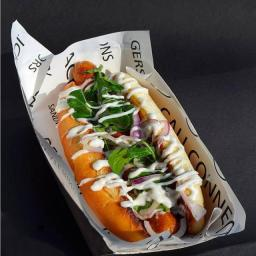hotdog: (61, 70, 215, 240)
